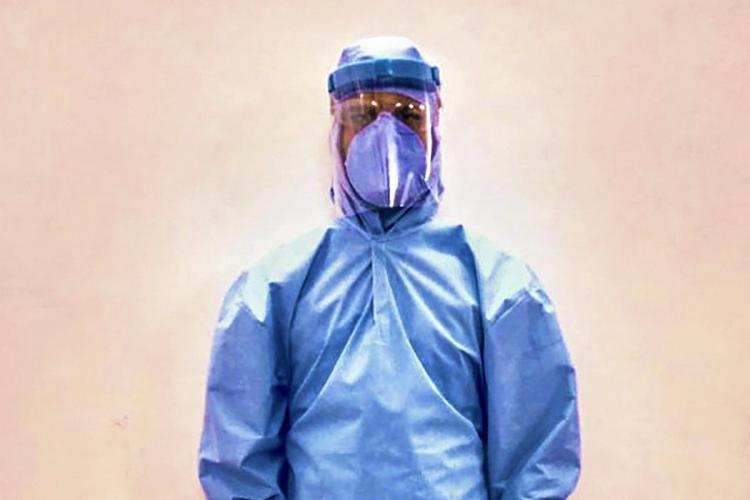Face_Shield: (327, 56, 448, 211)
Goggles: (331, 95, 441, 137)
